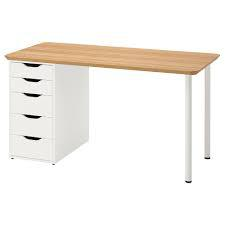desk: (5, 25, 218, 189)
